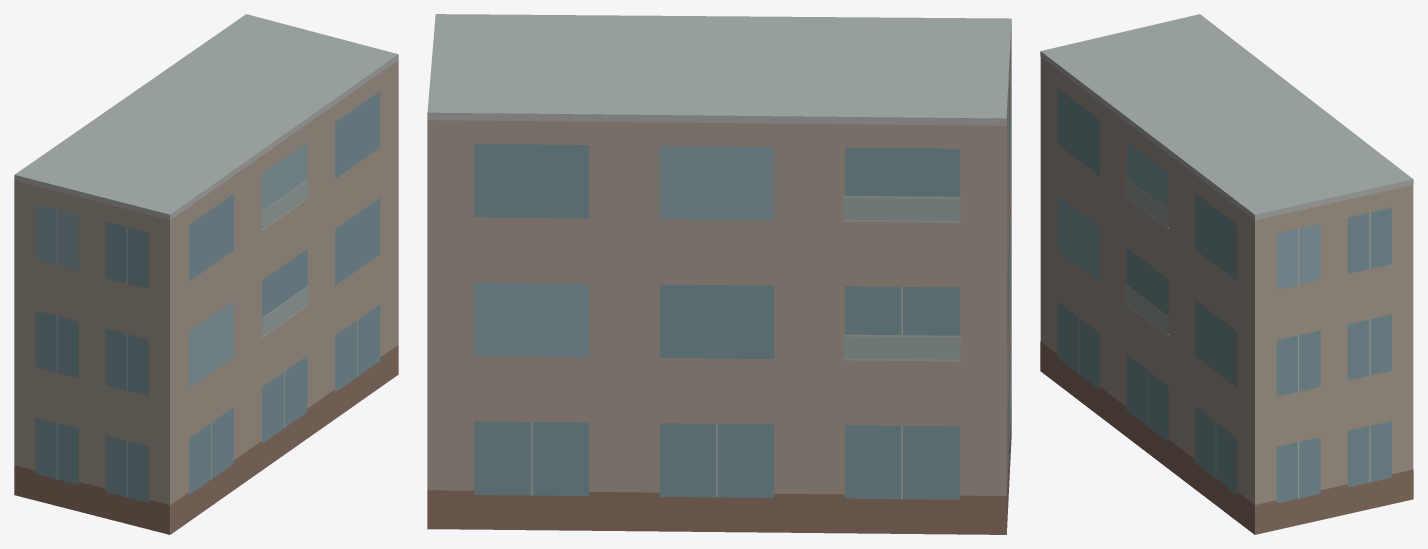
The model's file is survey-upis-32472927.glb.
3 renders of one model, left to right at view 1: azimuth 30°, elevation 25°; view 2: azimuth 150°, elevation 25°; view 3: azimuth 270°, elevation 25°, orthographic. The views are drawn at different scales.
Parts seen in each view (by area): view 1: survey-upis-32472927.tmp; view 2: survey-upis-32472927.tmp; view 3: survey-upis-32472927.tmp.
Boxes of the visible parts, box(x1,y1,x2,y2) form: survey-upis-32472927.tmp: box(14, 14, 398, 534); survey-upis-32472927.tmp: box(427, 14, 1011, 534); survey-upis-32472927.tmp: box(1040, 14, 1413, 534).
Size of the model in its own units: 18.44 by 13.7 by 14.47.
